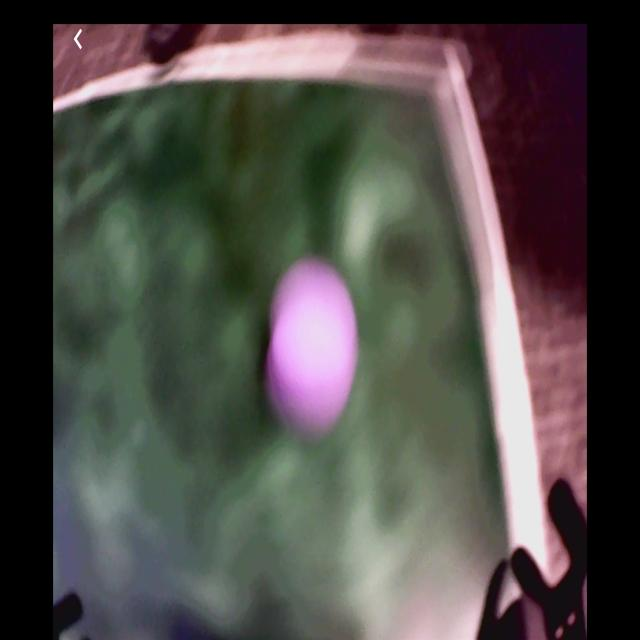ball: (269, 291, 357, 421)
